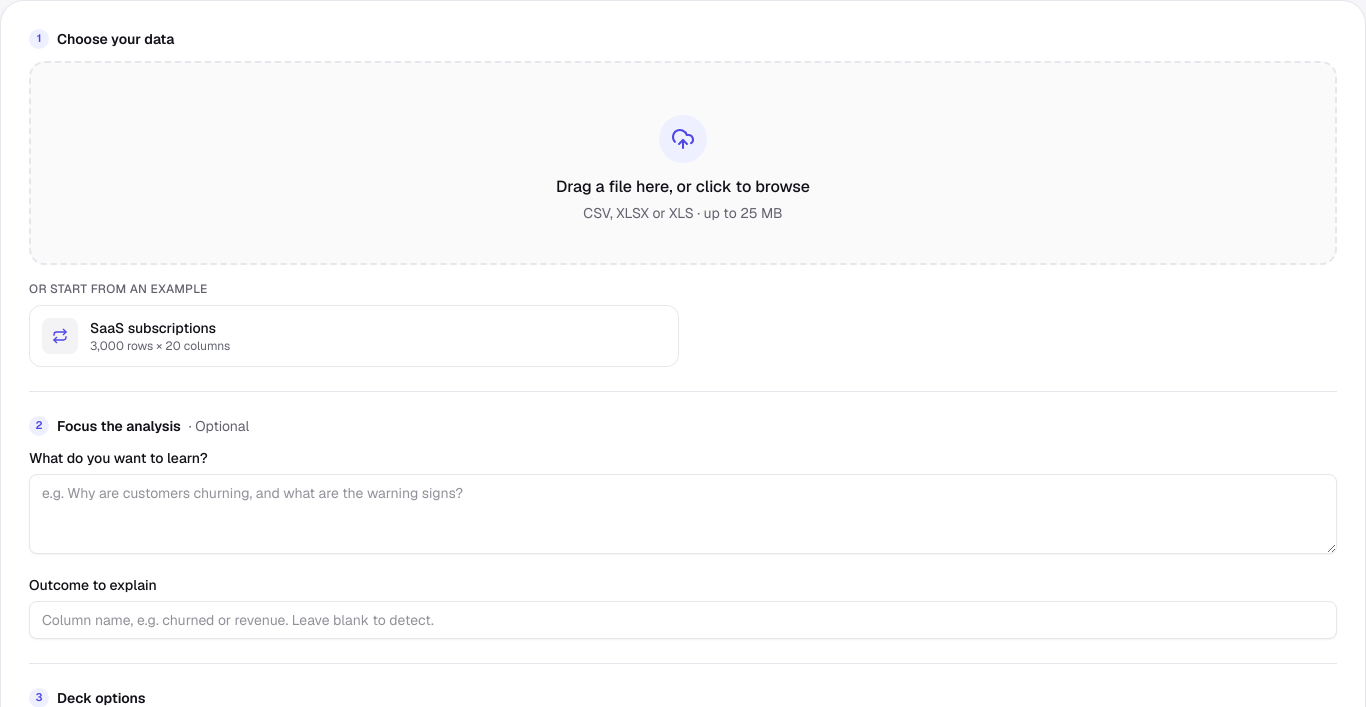
Test: UploadForm steering › loads an example dataset with its suggested question and outcome
Click the button "SaaS subscriptions 3,000 rows × 20 columns": (60, 336) [29,305,679,367]
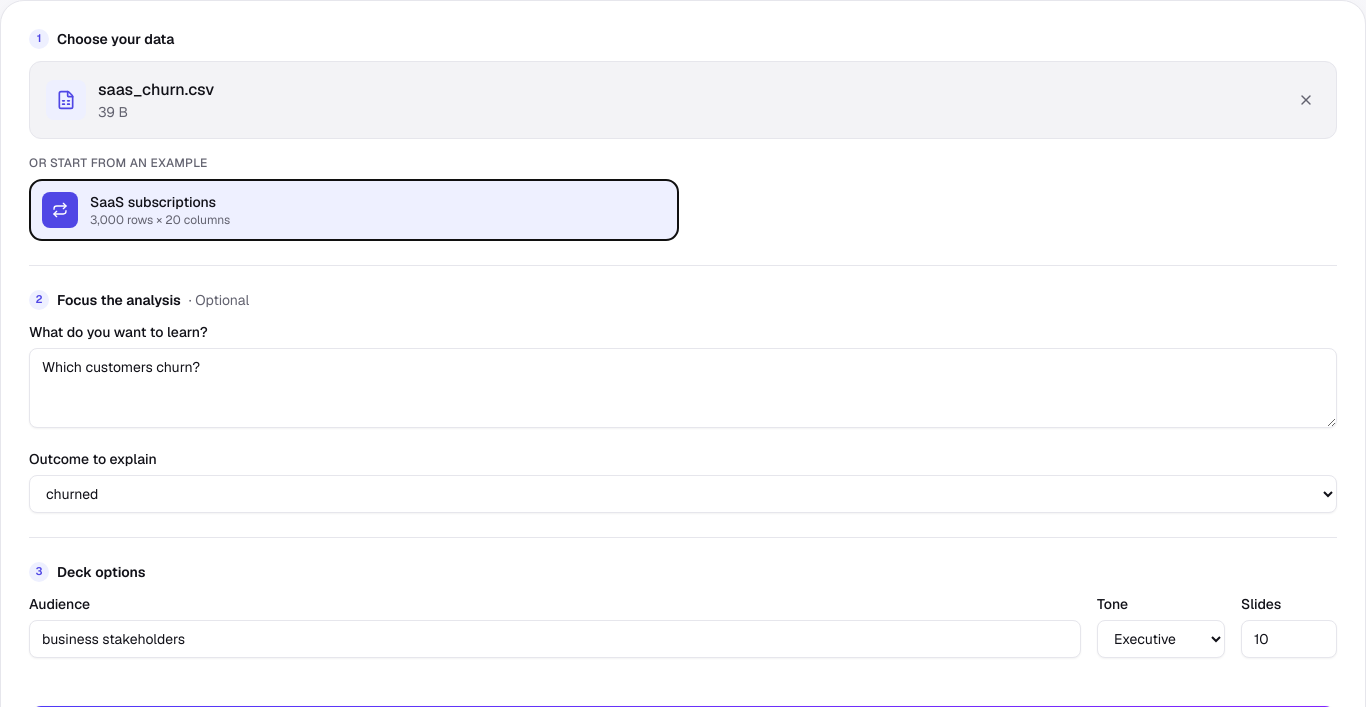
Expected: the text "saas_churn.csv" is shown, [98,79,214,100]
Expected: the text box labelled "What do you want to learn?" holds "Which customers churn?", [29,348,1337,428]
Expected: the dropdown labelled "Outcome to explain" shows "churned", [29,475,1337,513]
